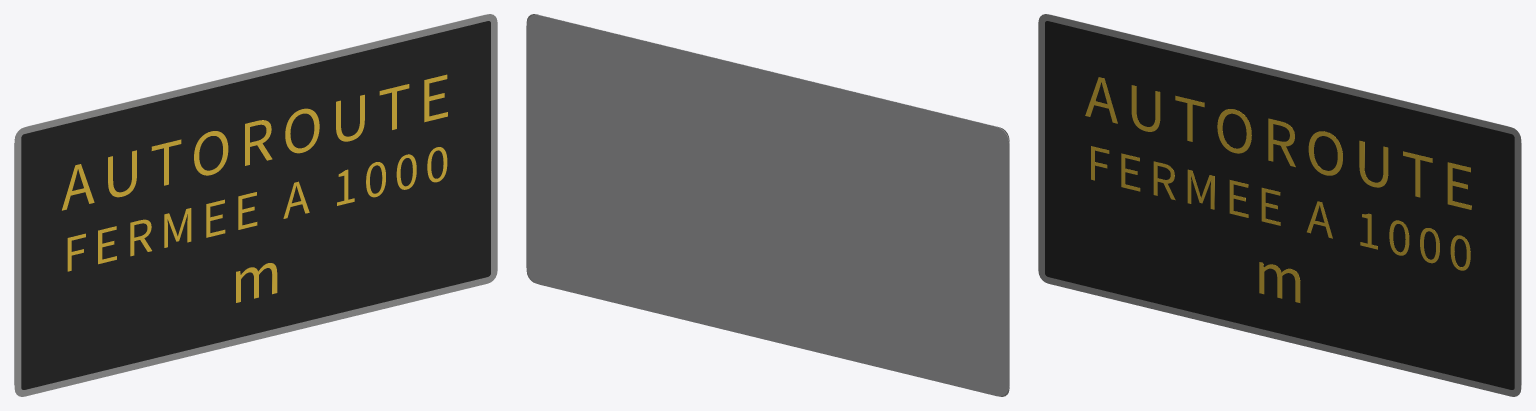
The model's file is MSG_AUTOROUTE_FERMEE_A_xxxx_m.glb.
The picture shows the model from 3 angles, left to right: view 1: azimuth 30°, elevation 25°; view 2: azimuth 150°, elevation 25°; view 3: azimuth 330°, elevation 25°; orthographic projection.
Parts seen in each view (by area): view 1: MSG_AUTOROUTE_FERMEE_A_xxxx_m_fond01, MSG_AUTOROUTE_FERMEE_A_xxxx_m_cadre00, MSG_AUTOROUTE_FERMEE_A_xxxx_m_txt02, MSG_AUTOROUTE_FERMEE_A_xxxx_m_txt03, MSG_AUTOROUTE_FERMEE_A_xxxx_m_dos, MSG_AUTOROUTE_FERMEE_A_xxxx_m_txt04; view 2: MSG_AUTOROUTE_FERMEE_A_xxxx_m_dos; view 3: MSG_AUTOROUTE_FERMEE_A_xxxx_m_fond01, MSG_AUTOROUTE_FERMEE_A_xxxx_m_cadre00, MSG_AUTOROUTE_FERMEE_A_xxxx_m_txt02, MSG_AUTOROUTE_FERMEE_A_xxxx_m_txt03, MSG_AUTOROUTE_FERMEE_A_xxxx_m_txt04, MSG_AUTOROUTE_FERMEE_A_xxxx_m_dos.
Boxes of the visible parts, x1,y1,x2,y2 form: MSG_AUTOROUTE_FERMEE_A_xxxx_m_fond01: (21,21,490,389); MSG_AUTOROUTE_FERMEE_A_xxxx_m_cadre00: (14,14,497,396); MSG_AUTOROUTE_FERMEE_A_xxxx_m_txt02: (62,74,447,210); MSG_AUTOROUTE_FERMEE_A_xxxx_m_txt03: (67,147,447,271); MSG_AUTOROUTE_FERMEE_A_xxxx_m_dos: (14,14,484,384); MSG_AUTOROUTE_FERMEE_A_xxxx_m_txt04: (236,263,277,302); MSG_AUTOROUTE_FERMEE_A_xxxx_m_dos: (526,14,1009,396); MSG_AUTOROUTE_FERMEE_A_xxxx_m_fond01: (1045,21,1514,389); MSG_AUTOROUTE_FERMEE_A_xxxx_m_cadre00: (1038,14,1521,396); MSG_AUTOROUTE_FERMEE_A_xxxx_m_txt02: (1085,77,1471,209); MSG_AUTOROUTE_FERMEE_A_xxxx_m_txt03: (1091,146,1470,270); MSG_AUTOROUTE_FERMEE_A_xxxx_m_txt04: (1259,262,1300,302); MSG_AUTOROUTE_FERMEE_A_xxxx_m_dos: (1051,14,1521,384).
Bounding box in the file's own units: 1.5 × 0.8 × 0.0033.
